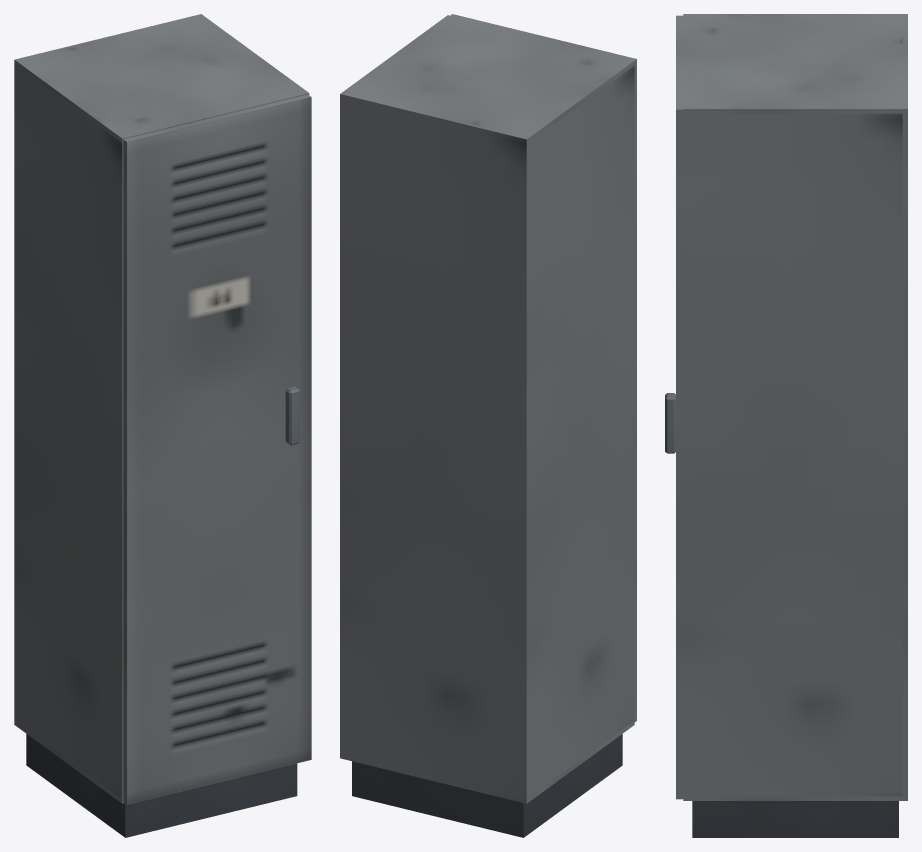
Rendered from locker_staff.fbx.
3 renders of one model, left to right at view 1: azimuth 30°, elevation 25°; view 2: azimuth 150°, elevation 25°; view 3: azimuth 270°, elevation 25°, orthographic. The views are drawn at different scales.
Parts seen in each view (by area): view 1: locker_staff_door, locker_staff; view 2: locker_staff, locker_staff_door; view 3: locker_staff, locker_staff_door.
Part boxes in pixels (box(x1,y1,x2,y2)): locker_staff_door: box(123, 94, 311, 804); locker_staff: box(14, 14, 309, 837); locker_staff: box(340, 15, 634, 837); locker_staff_door: box(450, 14, 636, 722); locker_staff: box(683, 14, 907, 837); locker_staff_door: box(665, 15, 683, 799).
Bounding box in the file's own units: 0.5 × 1.8 × 0.5405.
Materials: 1 (1 with a texture image).
